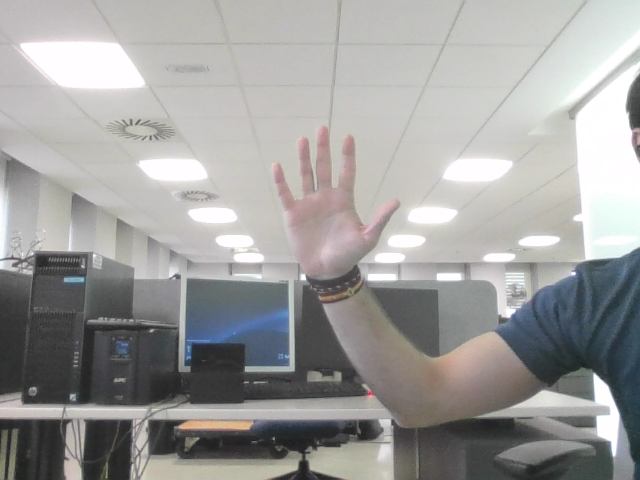Mano Abierta: (281, 137, 387, 252)
